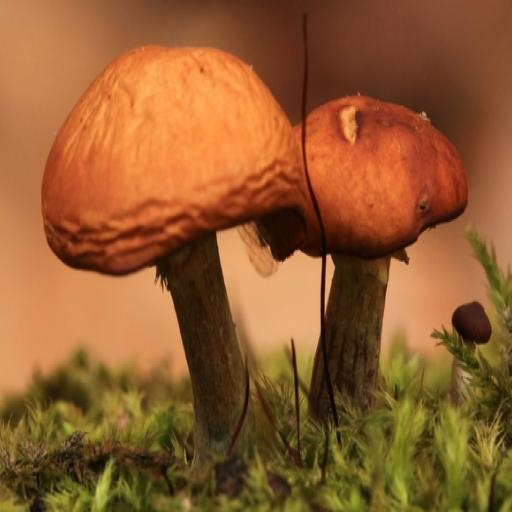mushroom: (45, 40, 468, 401)
